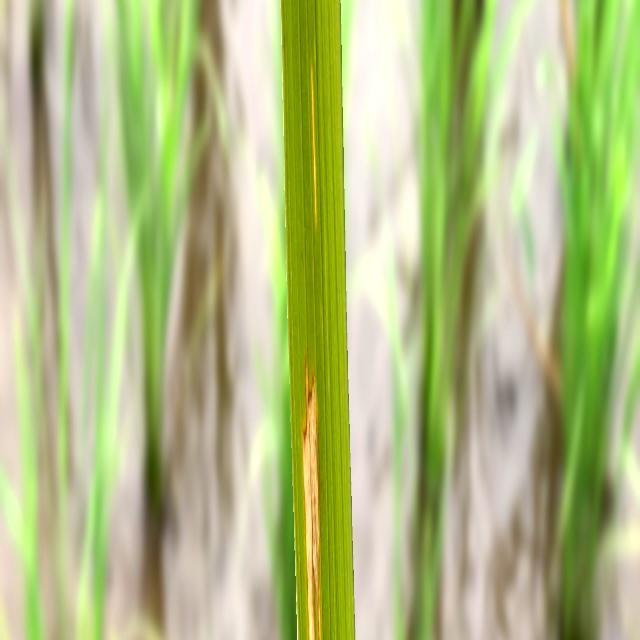BLS: (302, 365, 319, 640), (310, 62, 316, 227)
